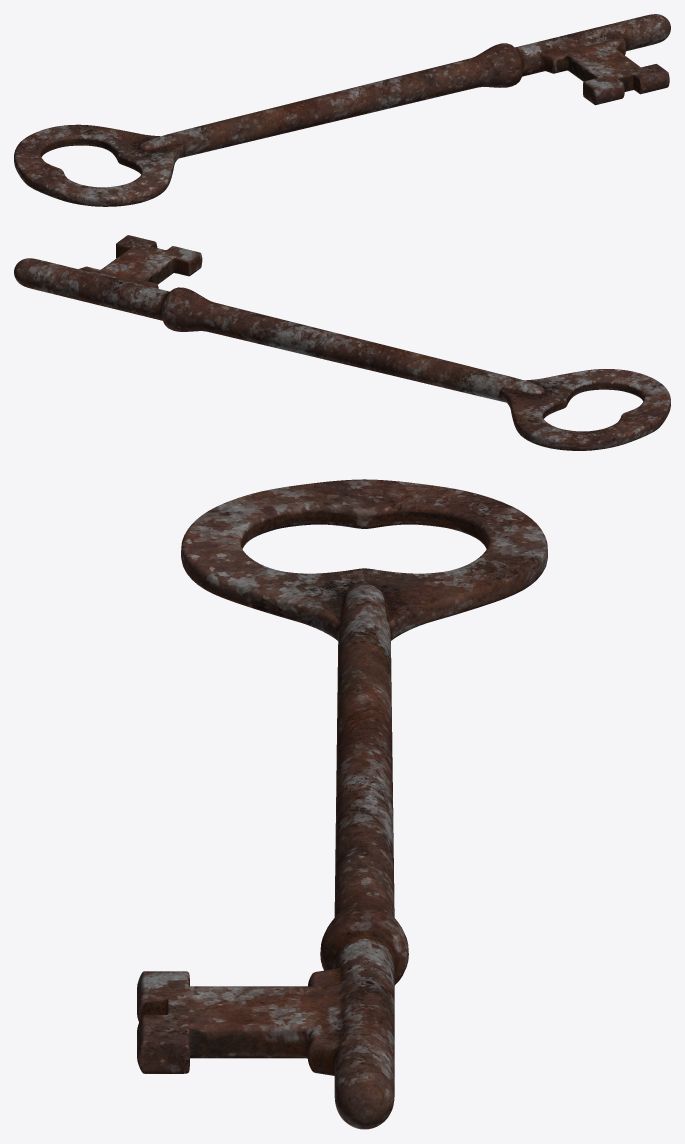
Rendered from Llave.fbx.
3 renders of one model, top to bottom at view 1: azimuth 30°, elevation 25°; view 2: azimuth 150°, elevation 25°; view 3: azimuth 270°, elevation 25°, orthographic. The views are drawn at different scales.
Parts seen in each view (by area): view 1: Rusty Key; view 2: Rusty Key; view 3: Rusty Key.
Boxes of the visible parts, bbox=[...] form: Rusty Key: bbox=[14, 14, 670, 206]; Rusty Key: bbox=[14, 235, 670, 450]; Rusty Key: bbox=[137, 479, 547, 1129].
Size of the model in its own units: 63.56 by 3.8 by 17.65.
Materials: 1 (1 with a texture image).
